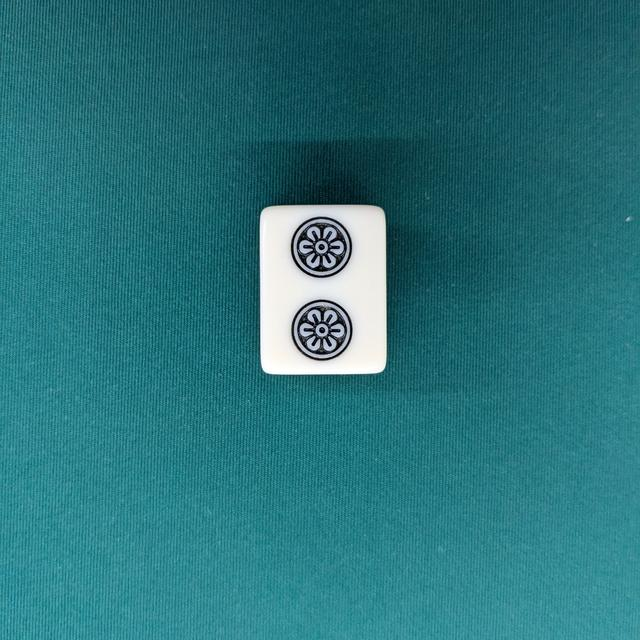2p: (258, 202, 390, 376)
